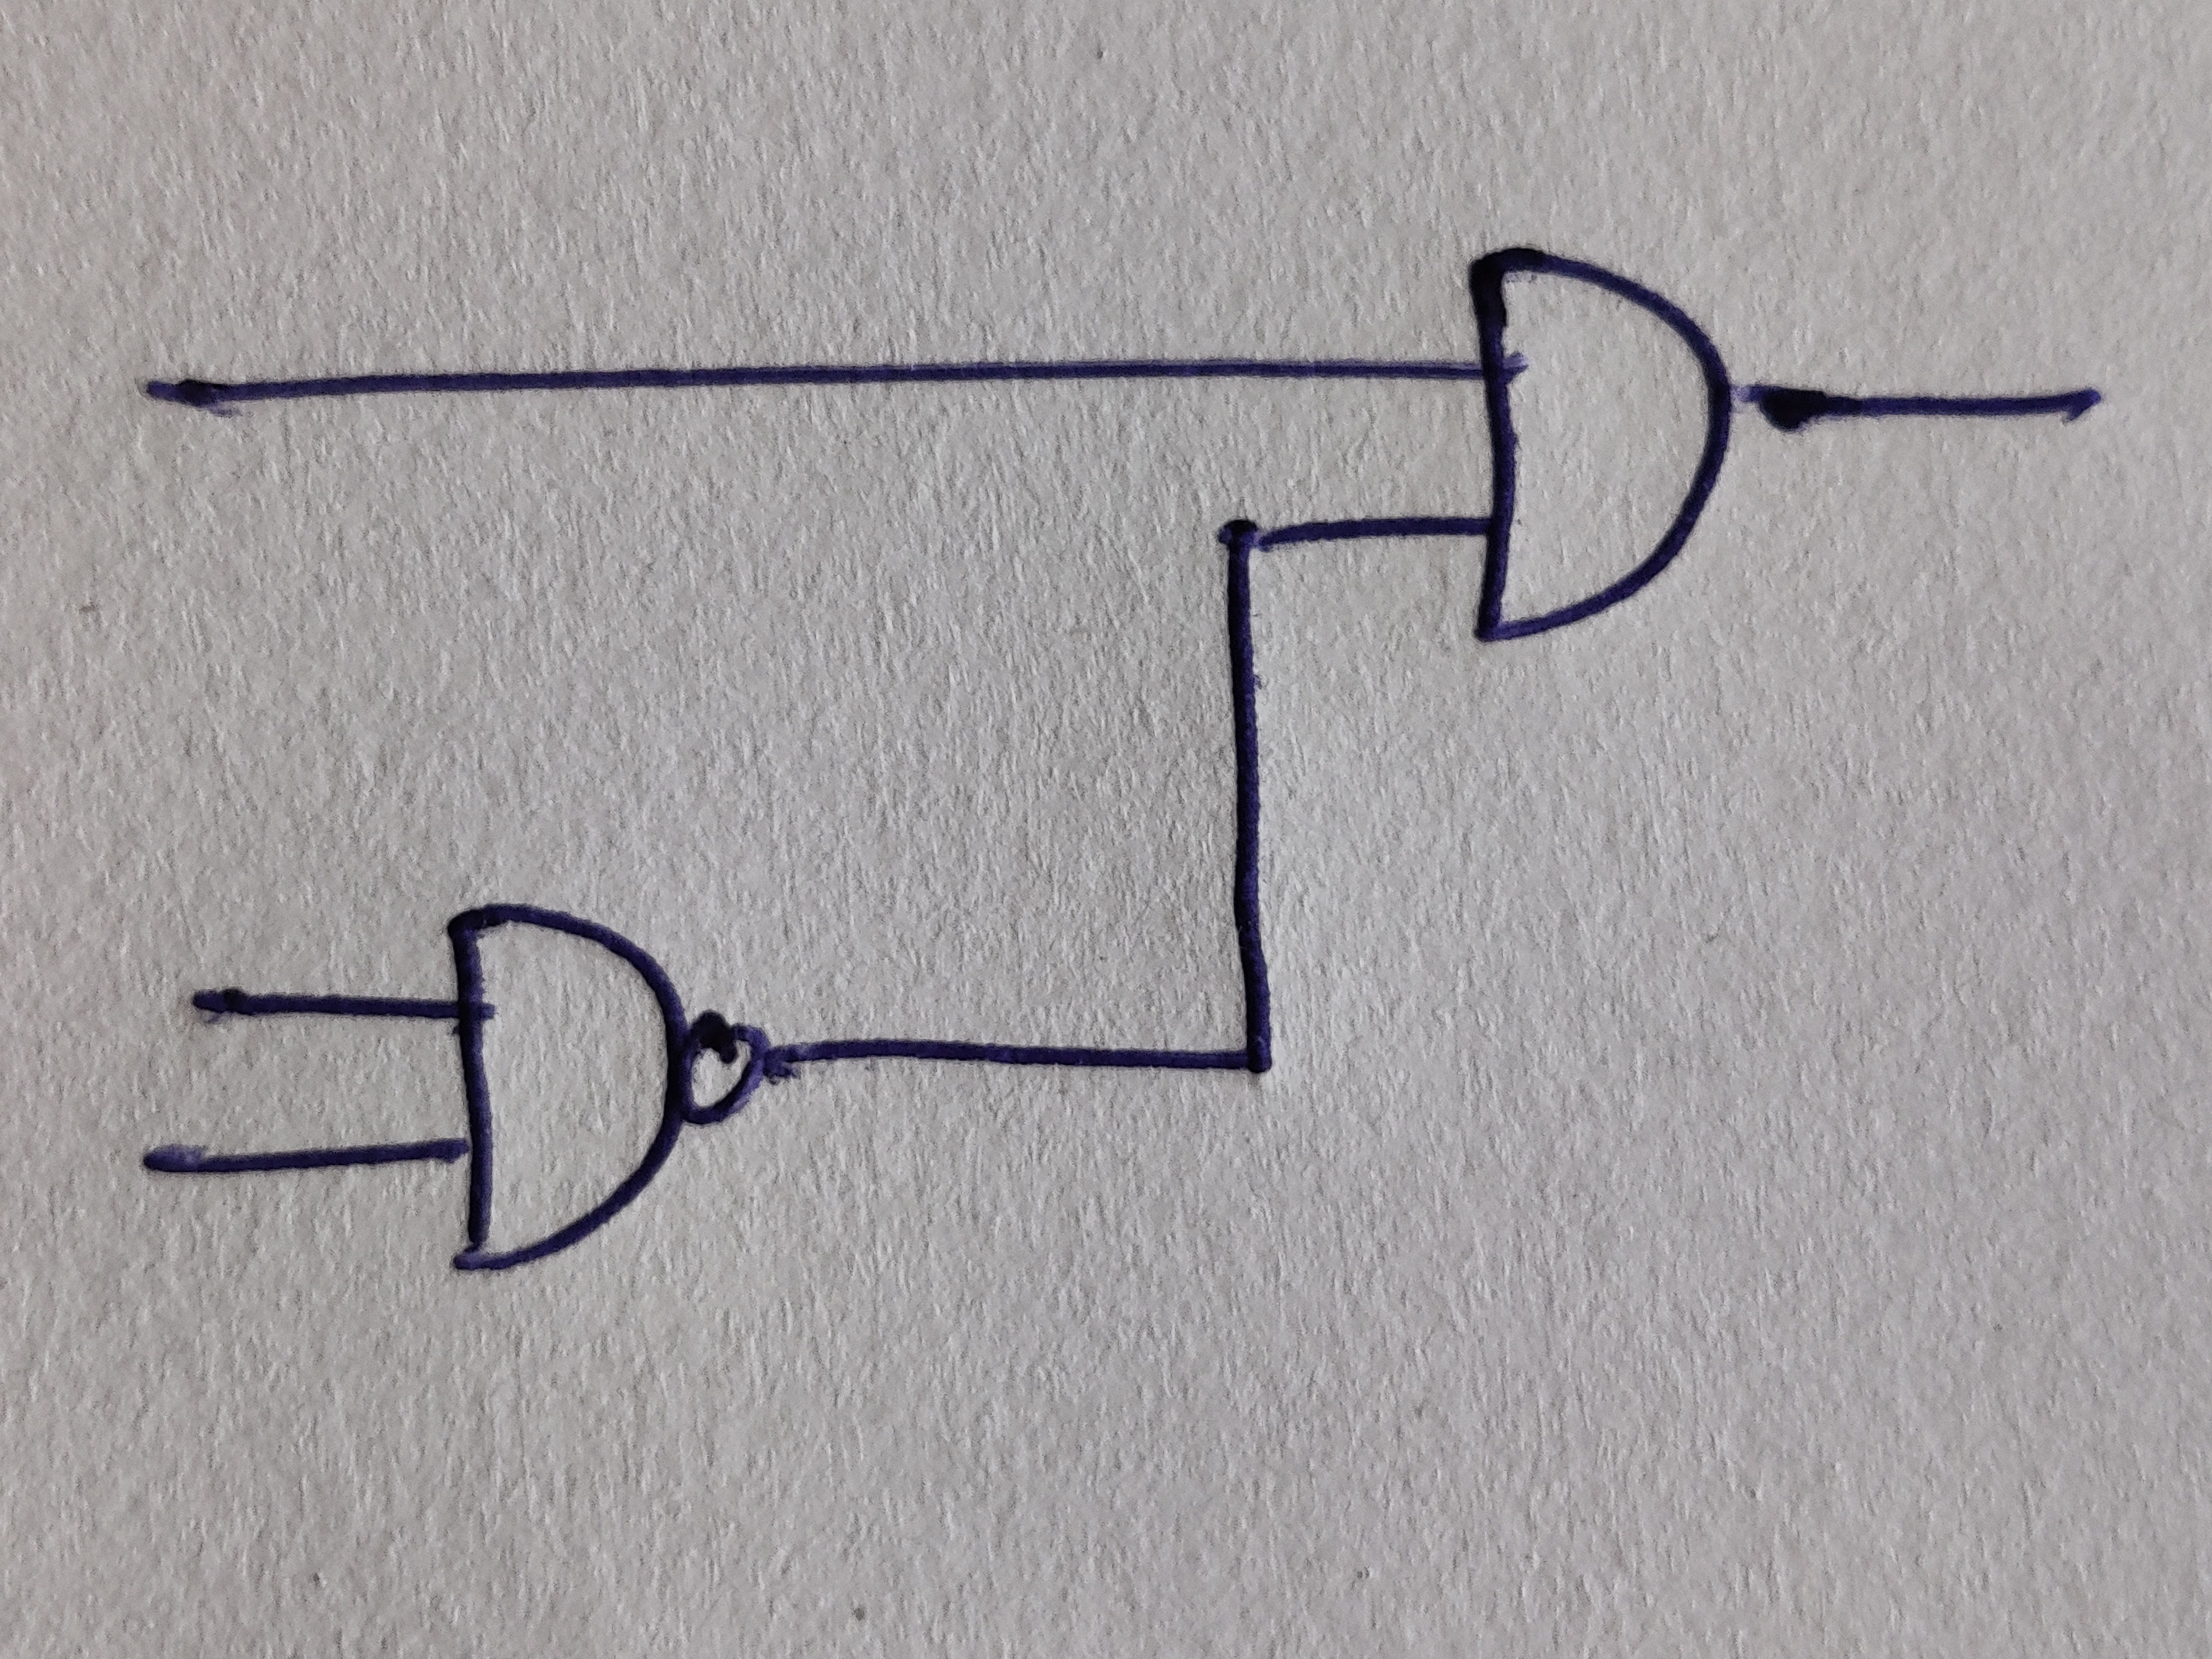and: (1468, 246, 1731, 643), (446, 901, 688, 1272)
not: (681, 1012, 772, 1126)
